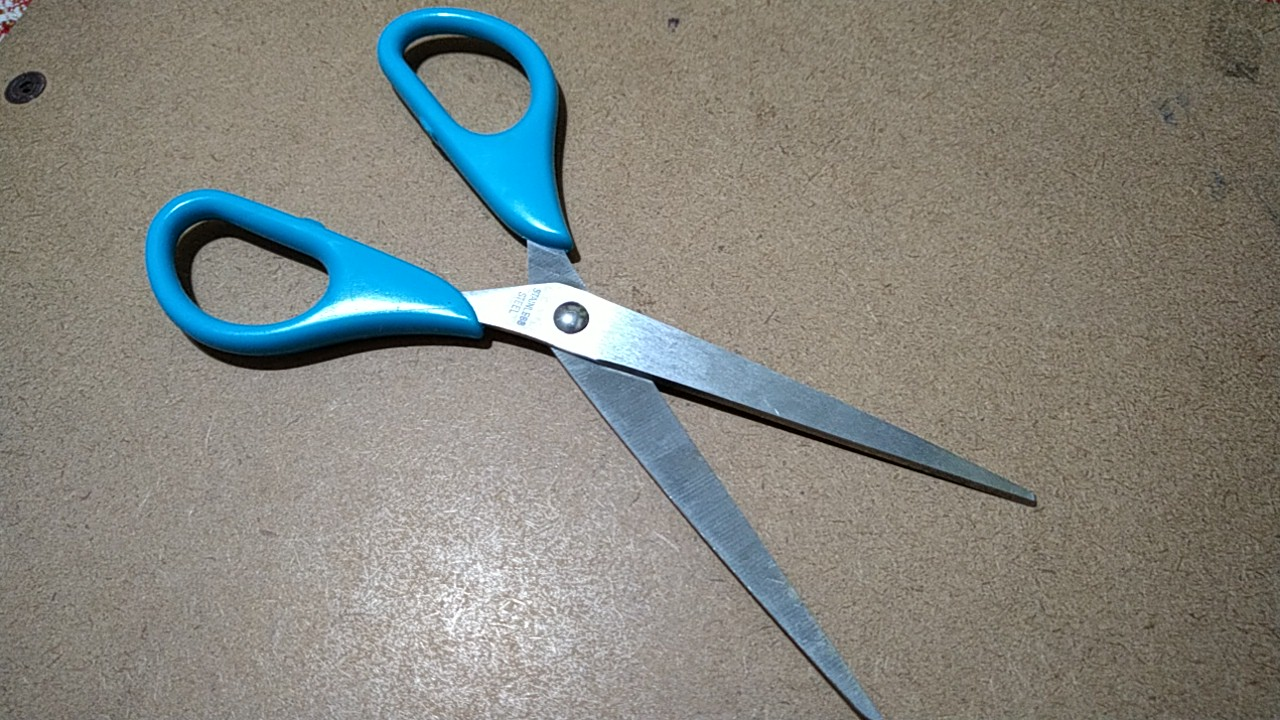scissor: (132, 1, 1071, 720)
